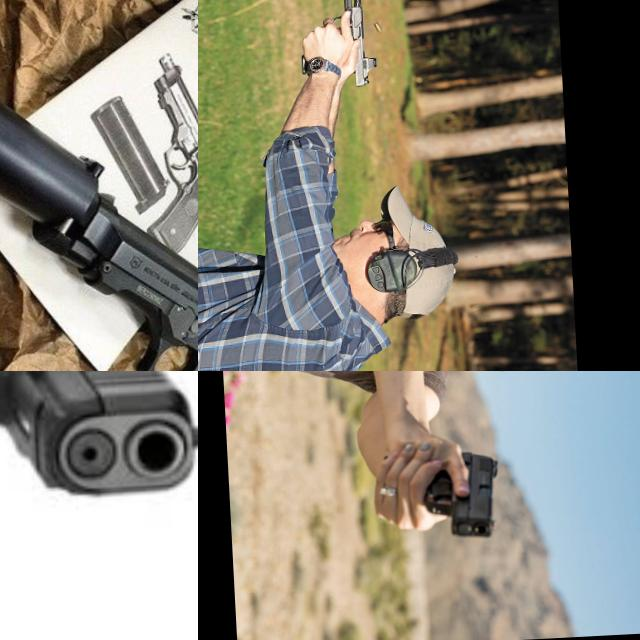handgun: (25, 180, 198, 371), (0, 371, 198, 525), (408, 448, 505, 544), (316, 0, 378, 92)
